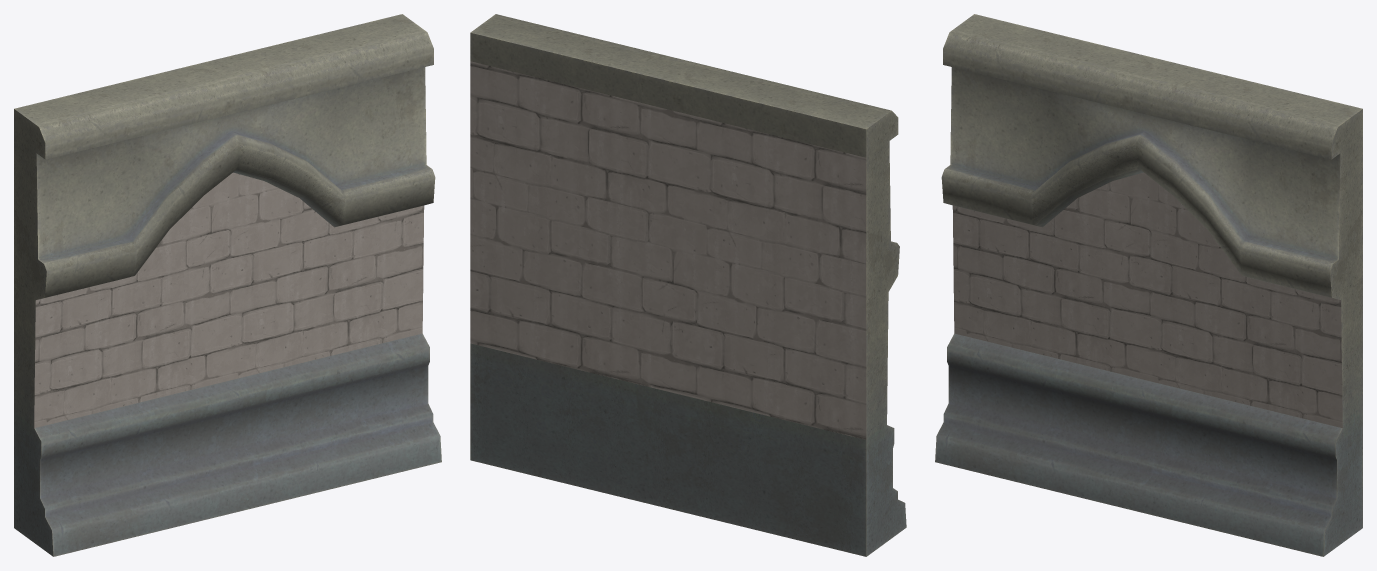
Rendered from AD_Wall_A_01.fbx.
The picture shows the model from 3 angles, left to right: view 1: azimuth 30°, elevation 25°; view 2: azimuth 150°, elevation 25°; view 3: azimuth 330°, elevation 25°; orthographic projection.
Parts seen in each view (by area): view 1: AD_Wall_A_01; view 2: AD_Wall_A_01; view 3: AD_Wall_A_01.
Part boxes in pixels (box(x1,y1,x2,y2)): AD_Wall_A_01: box(14, 14, 441, 556); AD_Wall_A_01: box(470, 14, 906, 556); AD_Wall_A_01: box(935, 14, 1362, 556).
Size of the model in its own units: 745 by 768 by 131.
2 materials, 2 textured.
